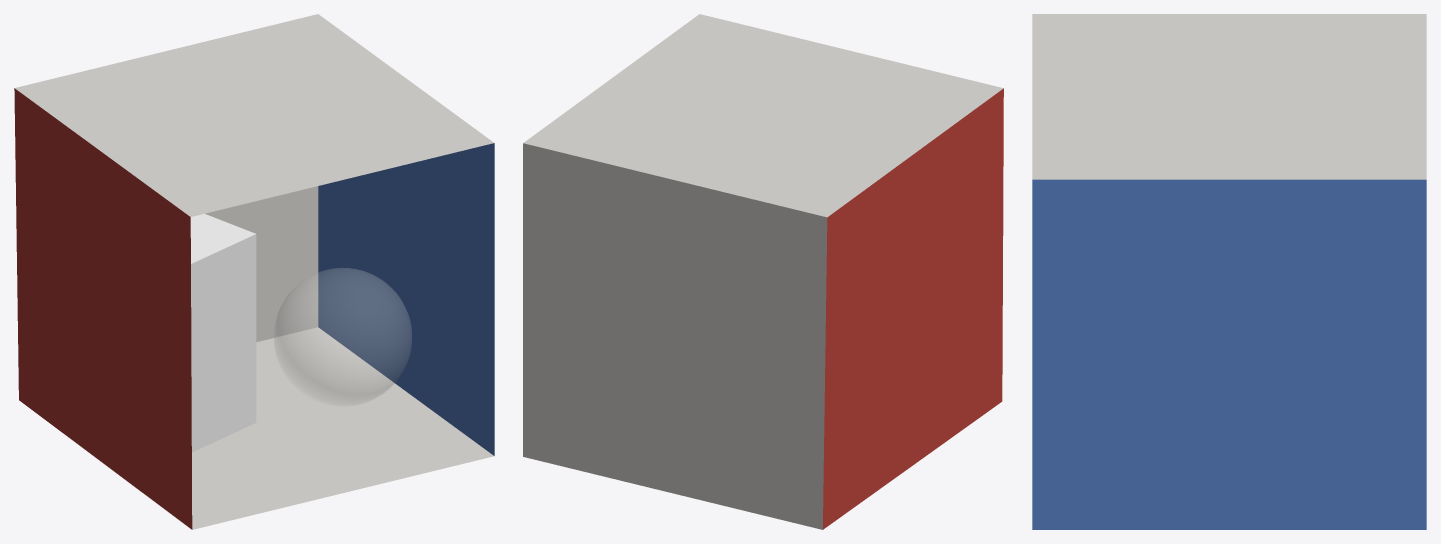
File: CornellBox-GlassSphere.gltf
3 views of the same model, side by side, from view 1: azimuth 30°, elevation 25°; view 2: azimuth 150°, elevation 25°; view 3: azimuth 270°, elevation 25° (orthographic). The views are drawn at different scales.
Visible parts, largest first — view 1: CornellBox-Original, Sphere; view 2: CornellBox-Original; view 3: CornellBox-Original.
Part boxes in pixels (left/top/right/bottom): CornellBox-Original: left=14, top=14, right=494, bottom=529; Sphere: left=274, top=268, right=411, bottom=406; CornellBox-Original: left=523, top=14, right=1003, bottom=529; CornellBox-Original: left=1032, top=14, right=1426, bottom=529.
Bounding box in the file's own units: 2.02 × 1.99 × 2.03.
